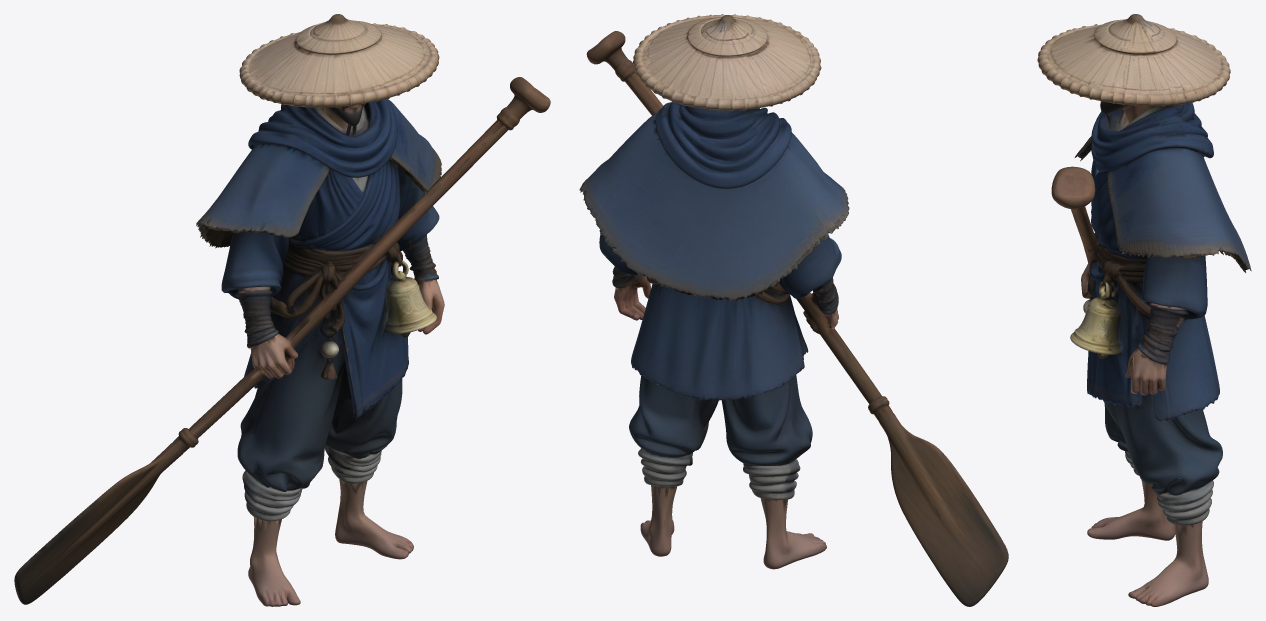
File: np_ling.glb
The picture shows the model from 3 angles, left to right: view 1: azimuth 30°, elevation 25°; view 2: azimuth 150°, elevation 25°; view 3: azimuth 270°, elevation 25°; orthographic projection. The views are drawn at different scales.
Parts seen in each view (by area): view 1: node_0; view 2: node_0; view 3: node_0.
Boxes of the visible parts, x1=… form: node_0: x1=14, y1=14, x2=550, y2=606; node_0: x1=579, y1=14, x2=1008, y2=606; node_0: x1=1037, y1=14, x2=1251, y2=606.
Size of the model in its own units: 0.8786 by 0.965 by 0.3373.
Materials: 1 (1 with a texture image).
